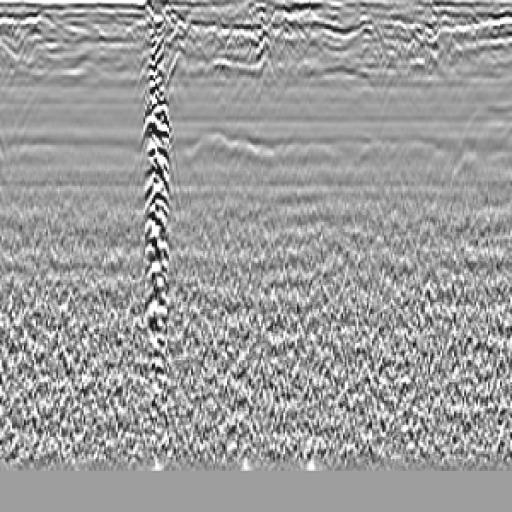metalic: (122, 28, 196, 338)
